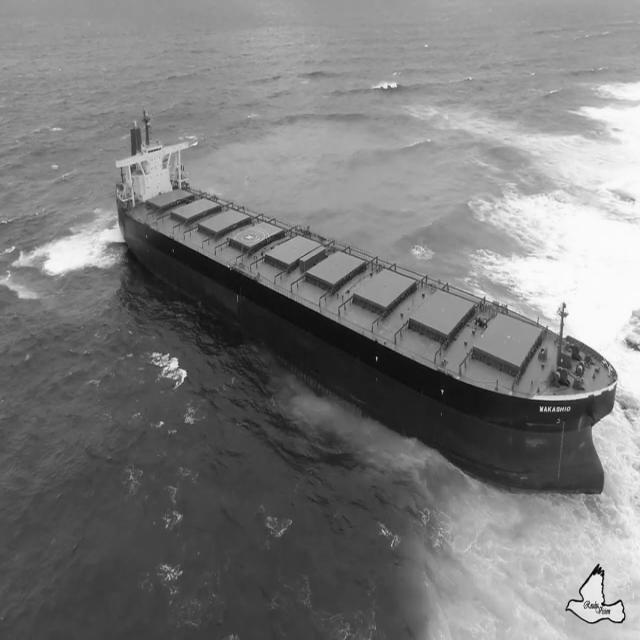Bulk-Carrier: (108, 86, 622, 530)
